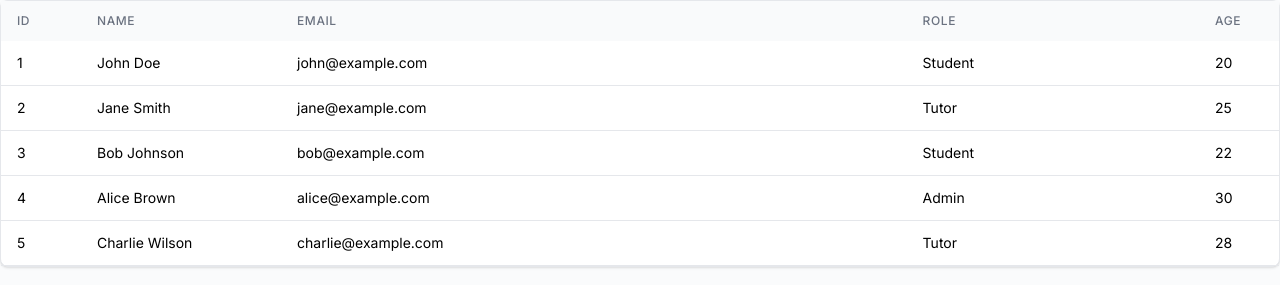
it: OptimizedDataTable › Sorting Functionality › should toggle sort direction on repeated clicks
Note: First click - ascending
Click the column heading "Name" at (116, 20), box [81,1,281,41]
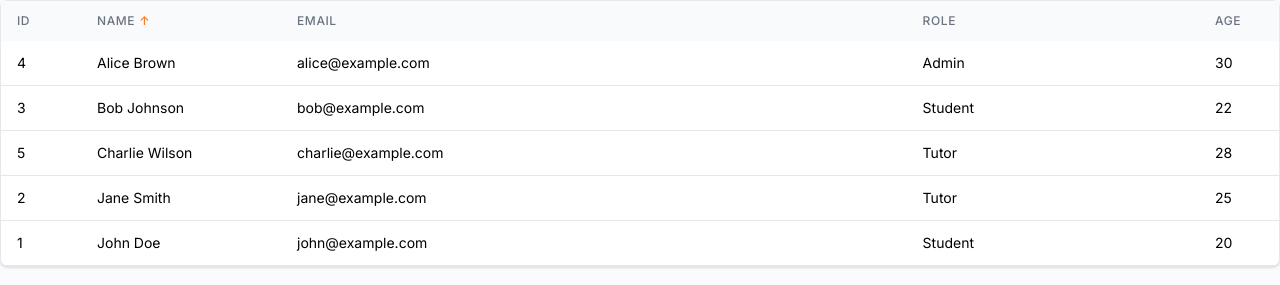
Now the text "↑" is shown, box [139,13,150,29]
Note: Second click - descending
Click the column heading "Name" at (116, 20), box [81,1,281,41]
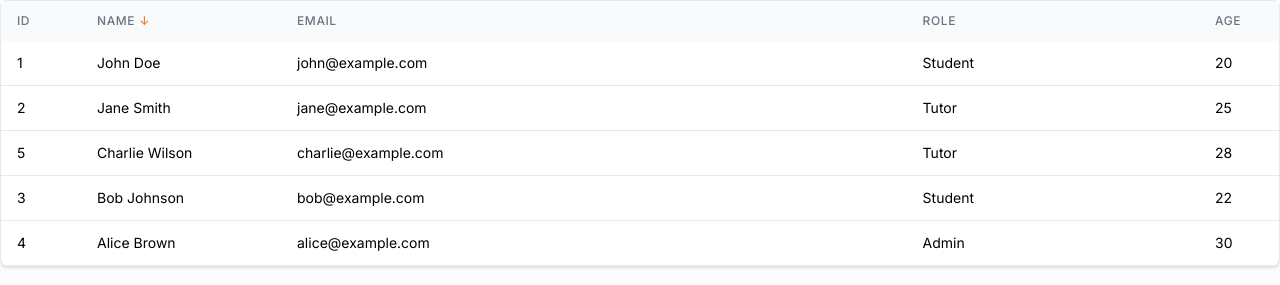
Now the text "↓" is shown, box [139,13,150,29]
